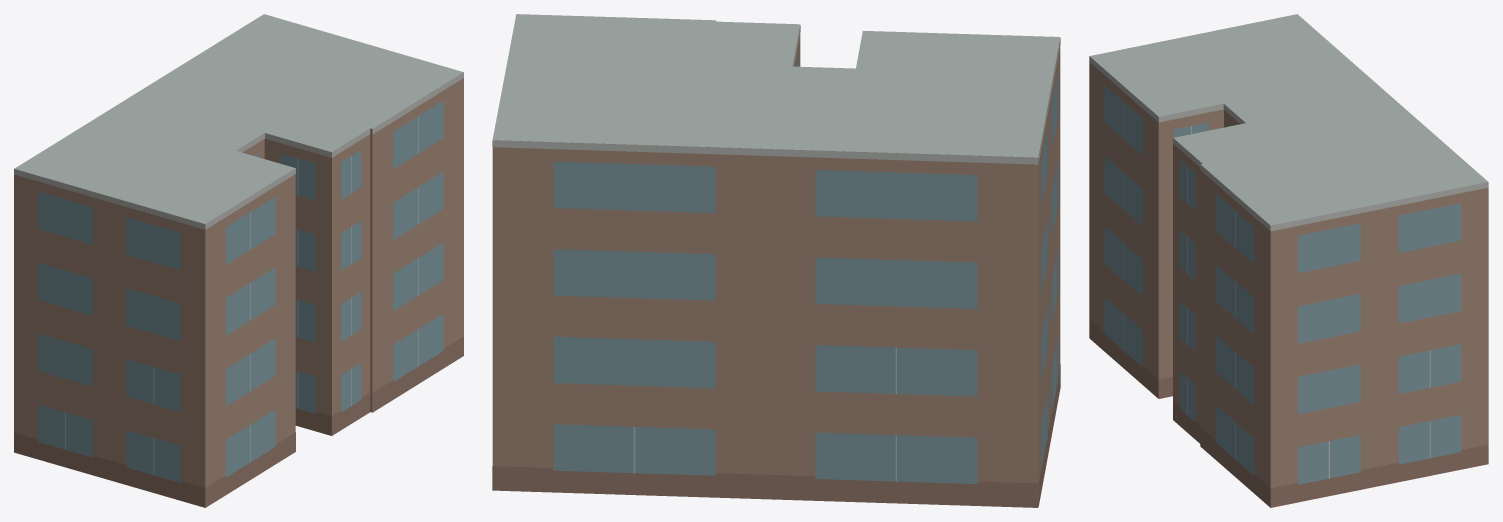
The model's file is survey-upis-32691517.glb.
3 renders of one model, left to right at view 1: azimuth 30°, elevation 25°; view 2: azimuth 150°, elevation 25°; view 3: azimuth 270°, elevation 25°, orthographic. The views are drawn at different scales.
Visible parts, largest first — view 1: survey-upis-32691517.tmp; view 2: survey-upis-32691517.tmp; view 3: survey-upis-32691517.tmp.
Part boxes in pixels (x1,y1,x2,y2): survey-upis-32691517.tmp: (14, 14, 463, 507); survey-upis-32691517.tmp: (492, 14, 1060, 507); survey-upis-32691517.tmp: (1089, 14, 1488, 507).
Bounding box in the file's own units: 19.64 × 12.2 × 15.65.
